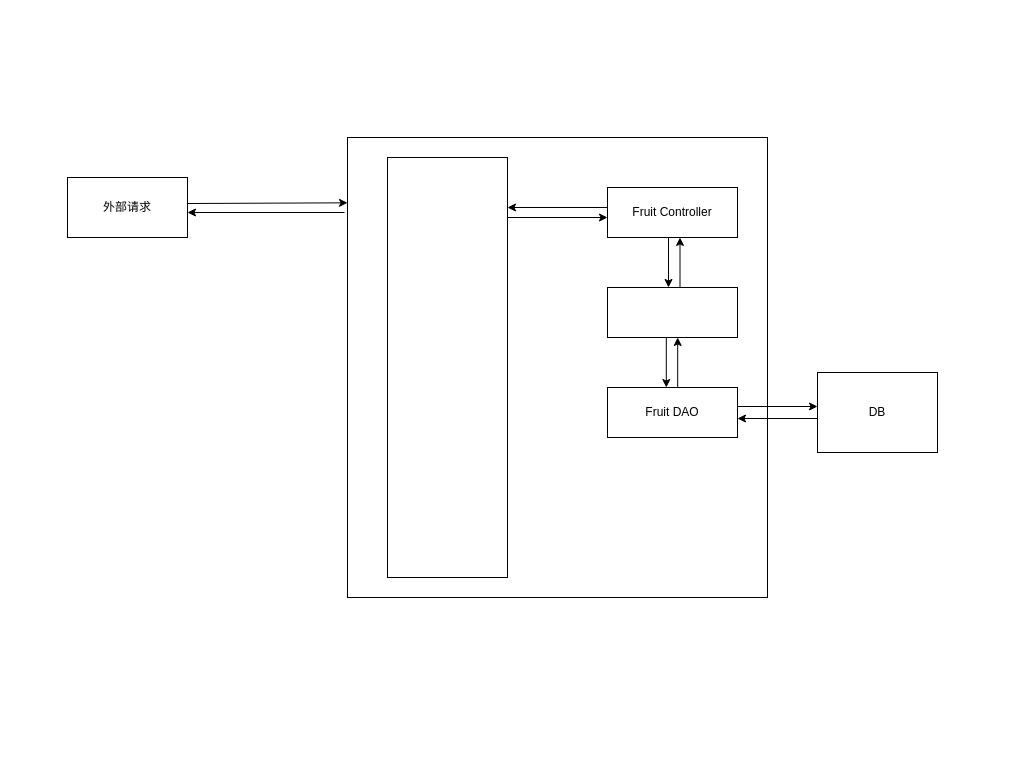
The diagram is 1014 pixels wide and 764 high, and some of its shapes have lost their labels. The box of each missing label's shape, as (x1, y1, x2, y2) in pixels:
DispatcherServlet 视图处理等: (386, 156, 508, 578)
Fruit Service: (606, 286, 738, 338)
